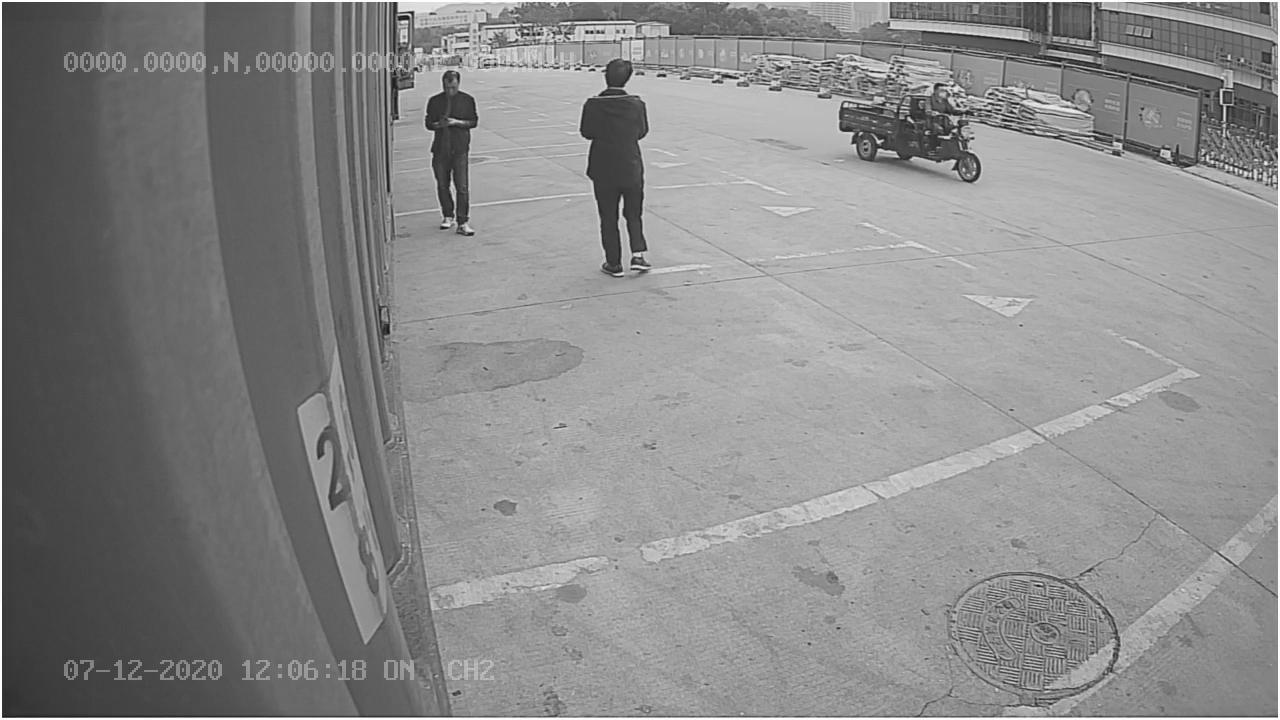person: (578, 56, 661, 279)
